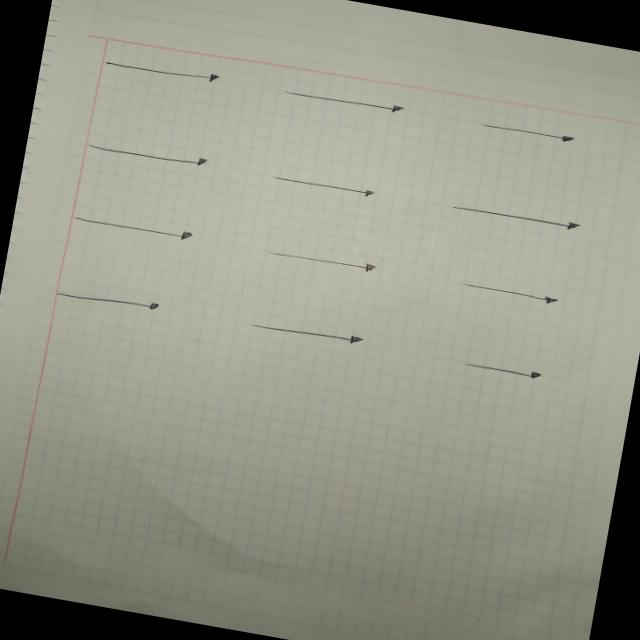arrow_line_right: (434, 192, 588, 245), (232, 304, 377, 360), (56, 204, 216, 253), (273, 75, 421, 126), (69, 126, 219, 176), (252, 162, 396, 214), (464, 105, 592, 158), (40, 275, 178, 324), (91, 44, 229, 92), (446, 271, 576, 317), (252, 240, 386, 280), (451, 347, 553, 386)
